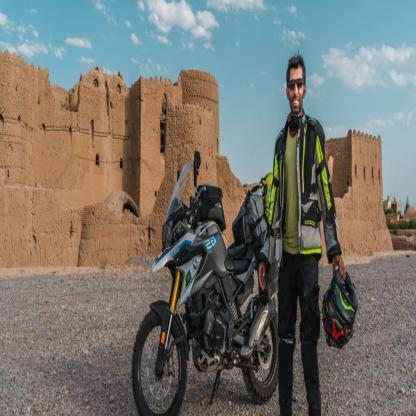helmet: (321, 269, 359, 349)
nohelmet: (286, 55, 307, 116)
